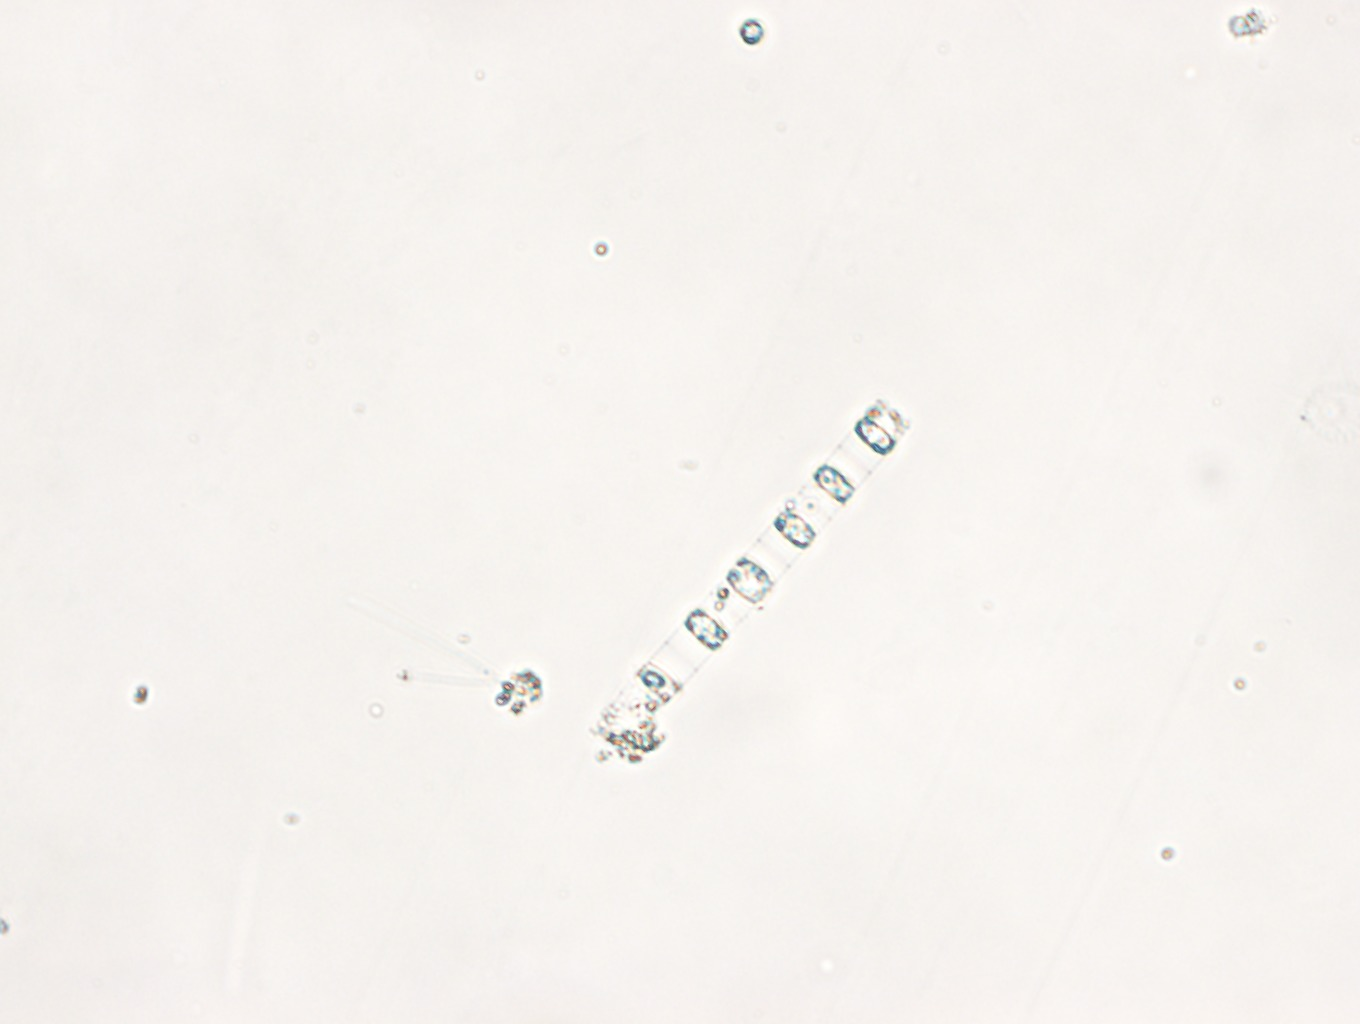skeletonema: (589, 396, 910, 763)
